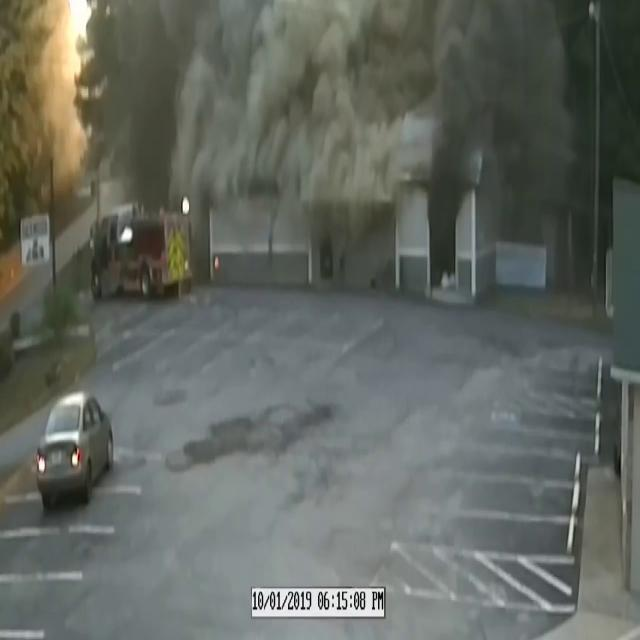Smoke: (159, 1, 398, 262), (406, 1, 586, 248)
